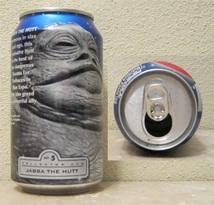can: (6, 6, 111, 197), (111, 57, 206, 154)
